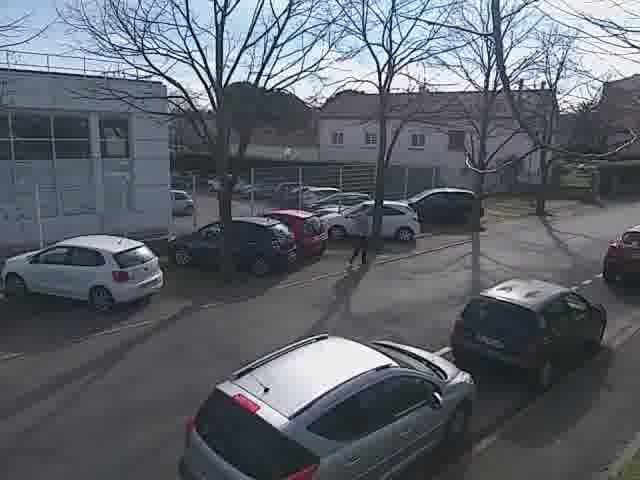persona: (345, 193, 375, 271)
